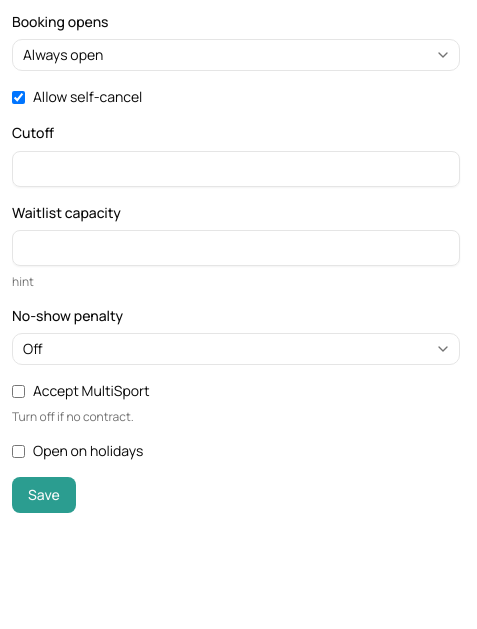
PoliciesForm MultiSport toggle › re-enabling a disabled club does not ask for confirmation
The width and height of the screenshot is (477, 629).
Expected: the text "MultiSport mode" is not shown
Click the checkbox labelled "Accept MultiSport".
click(18, 391)  # box [12,384,25,398]
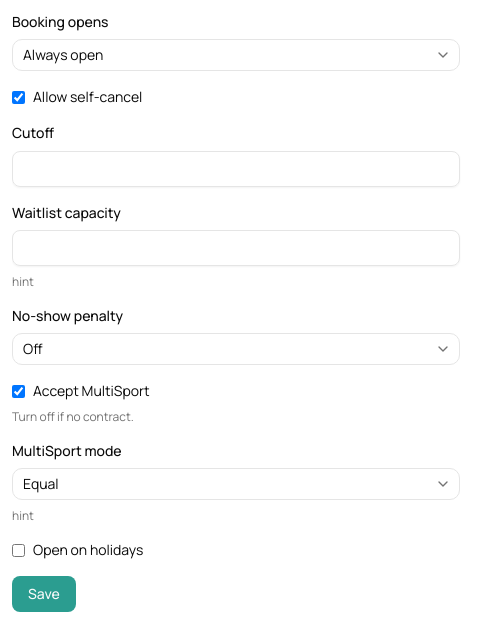
Expected: the checkbox labelled "Accept MultiSport" is checked, [12,384,25,398]
Expected: the text "MultiSport mode" is shown, [12,441,122,460]
